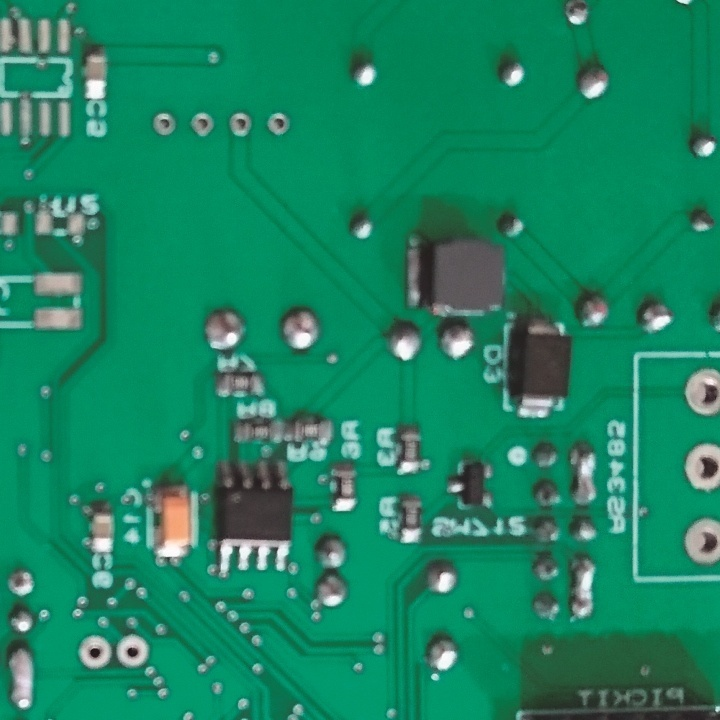F: (684, 440, 720, 493), (682, 515, 720, 565), (684, 366, 720, 418), (76, 634, 110, 670), (117, 633, 150, 670), (9, 568, 38, 598), (187, 111, 215, 139), (264, 111, 293, 137), (227, 110, 253, 138), (153, 110, 176, 137)
P: (570, 441, 599, 508), (8, 641, 36, 710), (570, 553, 596, 622)
